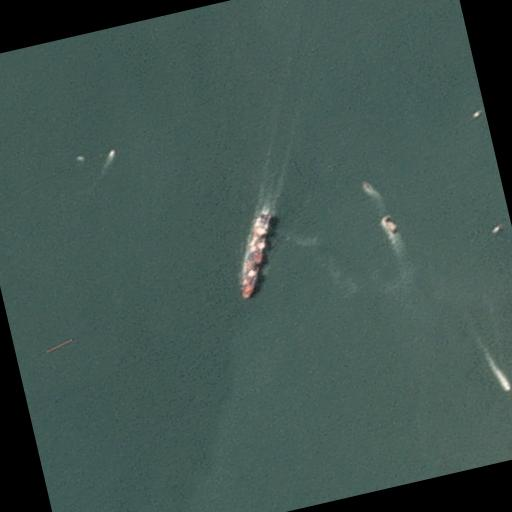ship: (222, 210, 290, 302), (491, 221, 503, 233), (362, 178, 372, 192), (106, 146, 118, 156), (502, 381, 512, 391)
